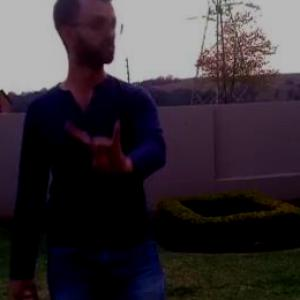takeoff-hand: (57, 110, 132, 184)
